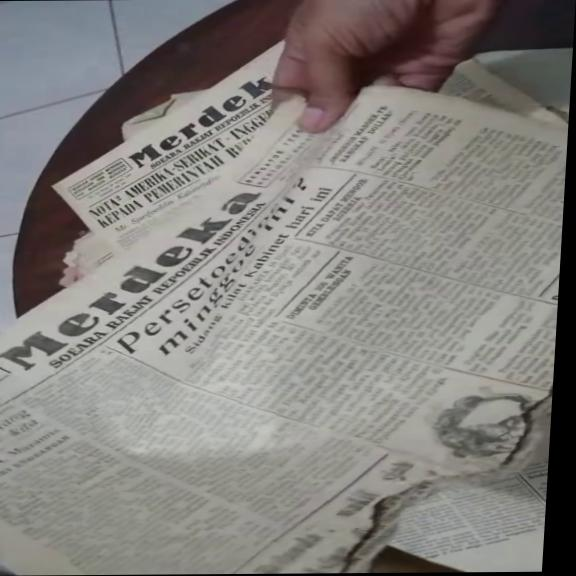Kertas: (0, 346, 378, 576), (214, 156, 564, 336)
